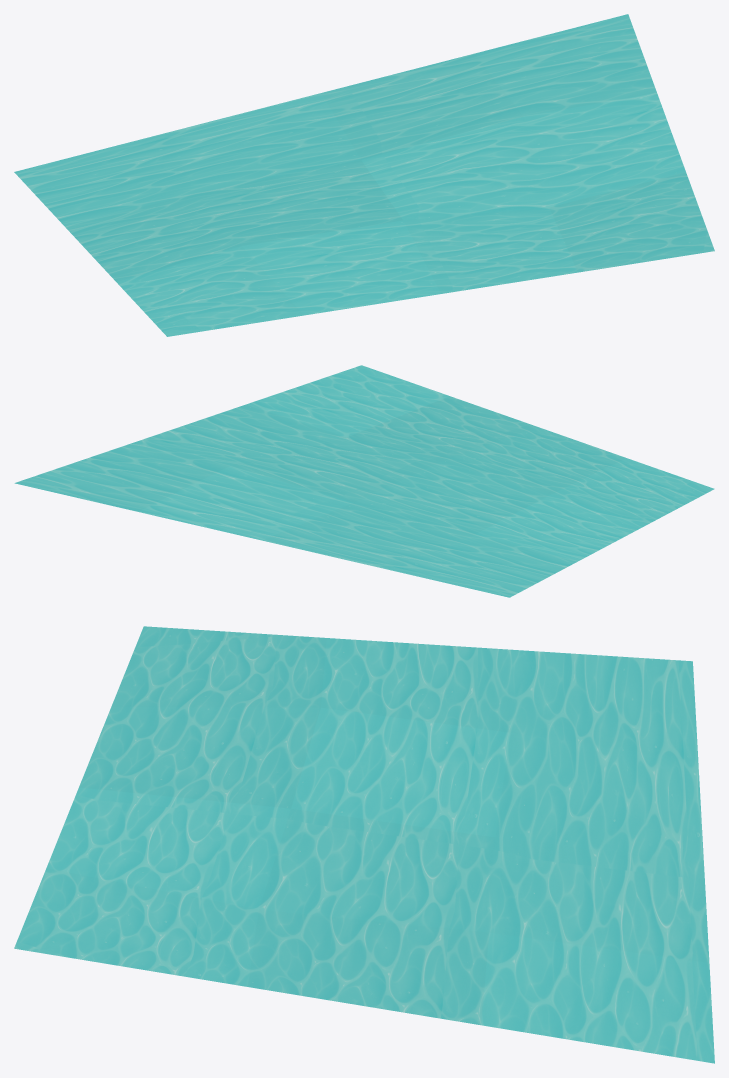
File: water_wolf_lake.glb
The picture shows the model from 3 angles, top to bottom: view 1: azimuth 30°, elevation 25°; view 2: azimuth 150°, elevation 25°; view 3: azimuth 270°, elevation 25°; orthographic projection. The views are drawn at different scales.
Parts seen in each view (by area): view 1: agua lago sin collider; view 2: agua lago sin collider; view 3: agua lago sin collider.
Part boxes in pixels (bbox=[...]): agua lago sin collider: bbox=[14, 14, 714, 336]; agua lago sin collider: bbox=[14, 365, 714, 597]; agua lago sin collider: bbox=[14, 626, 714, 1063].
Size of the model in its own units: 73.5 by 1.44 by 49.79.
1 material, 1 textured.
